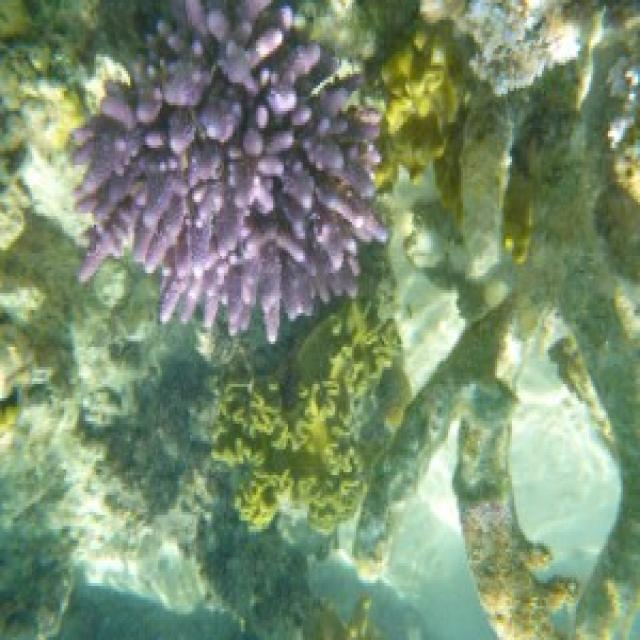Bleached: (355, 112, 640, 640), (420, 4, 609, 108), (607, 47, 640, 209)
Healthy: (76, 1, 386, 345), (217, 304, 394, 538), (369, 32, 465, 201)
